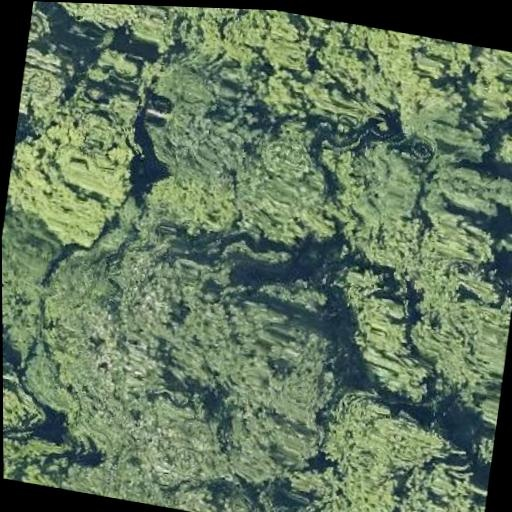tree-top: (23, 211, 348, 508), (301, 366, 501, 512), (1, 80, 156, 263), (141, 84, 334, 218), (323, 260, 456, 415), (405, 262, 512, 395), (31, 1, 243, 53), (17, 1, 84, 127), (3, 416, 80, 491), (3, 355, 50, 448), (490, 120, 512, 179)
